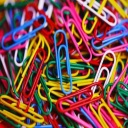Metal: (50, 23, 83, 91), (0, 8, 49, 53), (46, 84, 109, 115)
